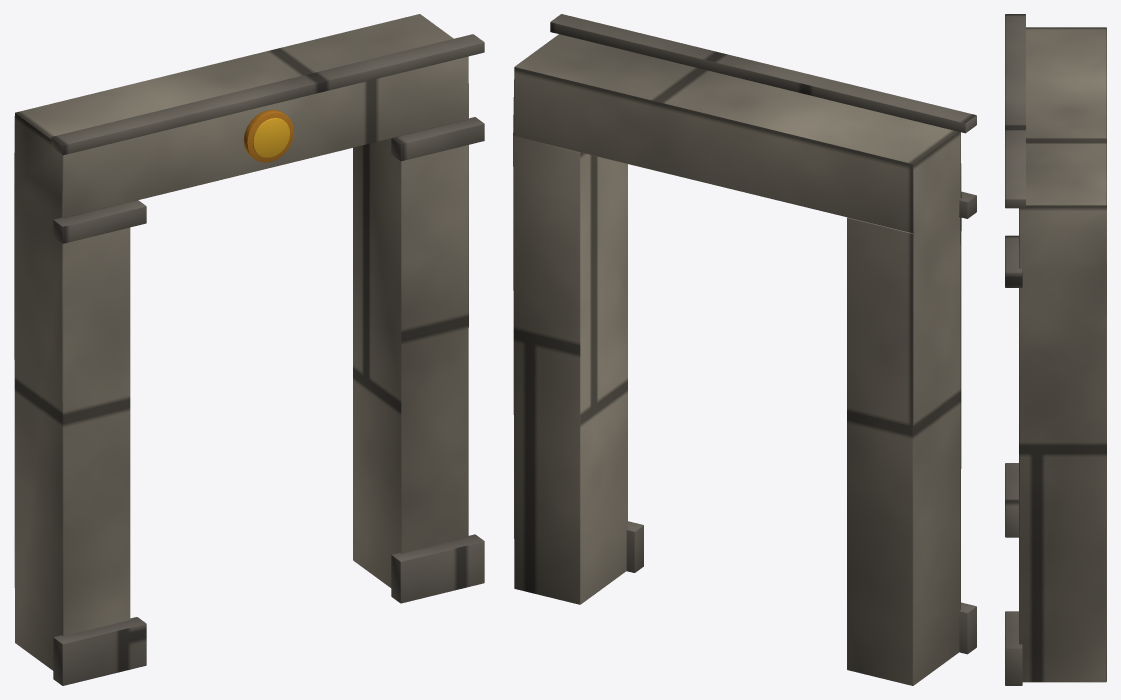
File: prop_doorway.glb
3 renders of one model, left to right at view 1: azimuth 30°, elevation 25°; view 2: azimuth 150°, elevation 25°; view 3: azimuth 270°, elevation 25°, orthographic. The views are drawn at different scales.
Parts seen in each view (by area): view 1: prop_doorway; view 2: prop_doorway; view 3: prop_doorway.
Part boxes in pixels (box(x1,y1,x2,y2)): prop_doorway: box(14, 14, 484, 685); prop_doorway: box(513, 14, 976, 685); prop_doorway: box(1005, 14, 1106, 685).
Size of the model in its own units: 2.5 by 3.06 by 0.58.
Materials: 4 (4 with a texture image).
